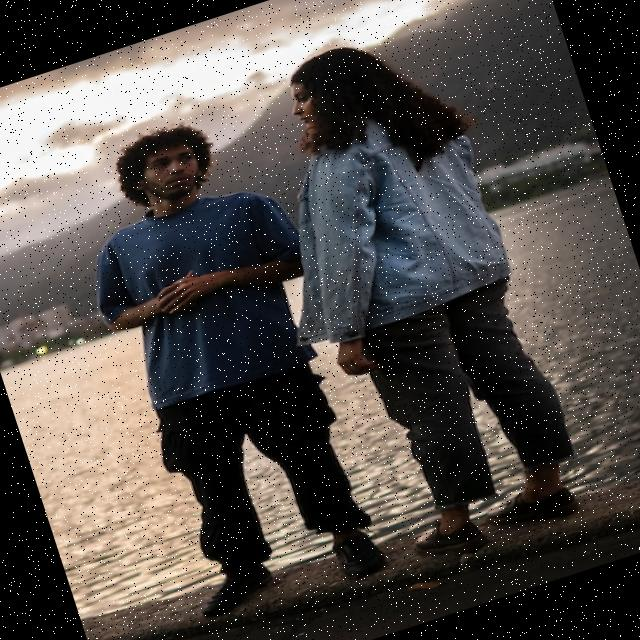Person: (218, 17, 592, 576), (53, 99, 407, 630)
